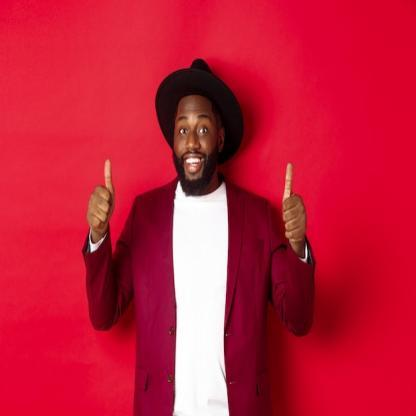thumb_up: (274, 159, 312, 250), (84, 156, 117, 235)
